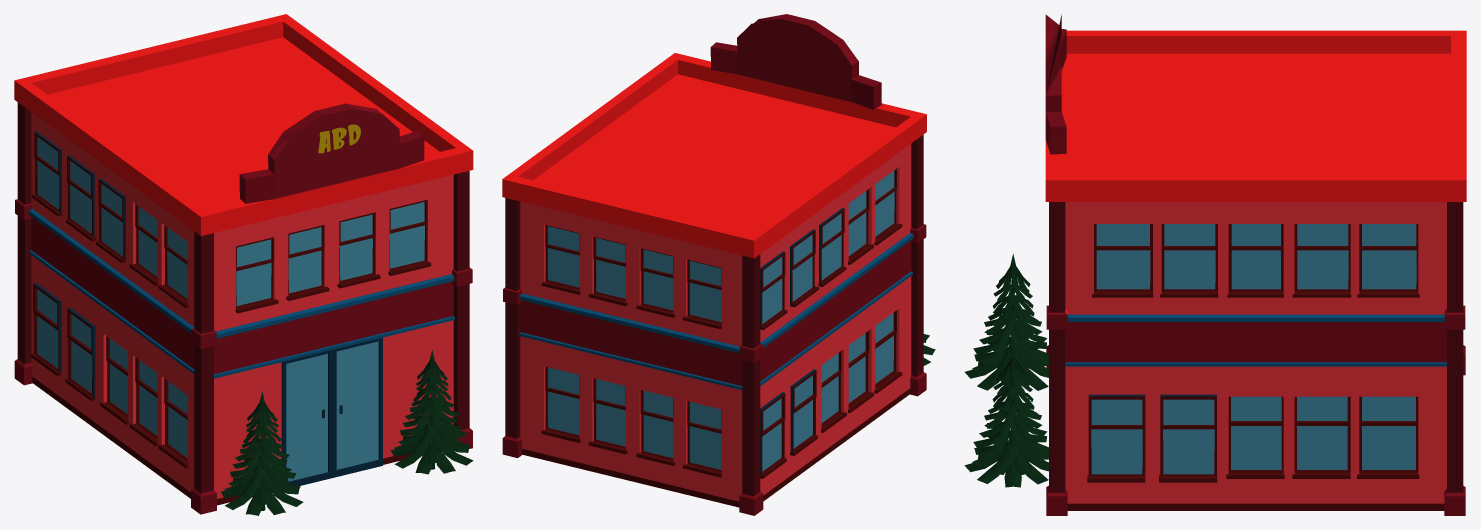
The model's file is bina3.FBX.
3 views of the same model, side by side, from view 1: azimuth 30°, elevation 25°; view 2: azimuth 150°, elevation 25°; view 3: azimuth 270°, elevation 25° (orthographic). The views are drawn at different scales.
Parts seen in each view (by area): view 1: Cube, Fir_tree001, Fir_tree002, TextPlus003; view 2: Cube; view 3: Cube, Fir_tree002, Fir_tree001.
Part boxes in pixels (x1=…): Cube: x1=14, y1=14, x2=473, y2=514; Fir_tree001: x1=221, y1=391, x2=303, y2=515; Fir_tree002: x1=390, y1=350, x2=473, y2=474; TextPlus003: x1=318, y1=124, x2=360, y2=153; Cube: x1=502, y1=14, x2=926, y2=515; Cube: x1=1045, y1=14, x2=1466, y2=515; Fir_tree002: x1=964, y1=347, x2=1048, y2=487; Fir_tree001: x1=965, y1=253, x2=1048, y2=390.
Bounding box in the file's own units: 517 × 669 × 732.
